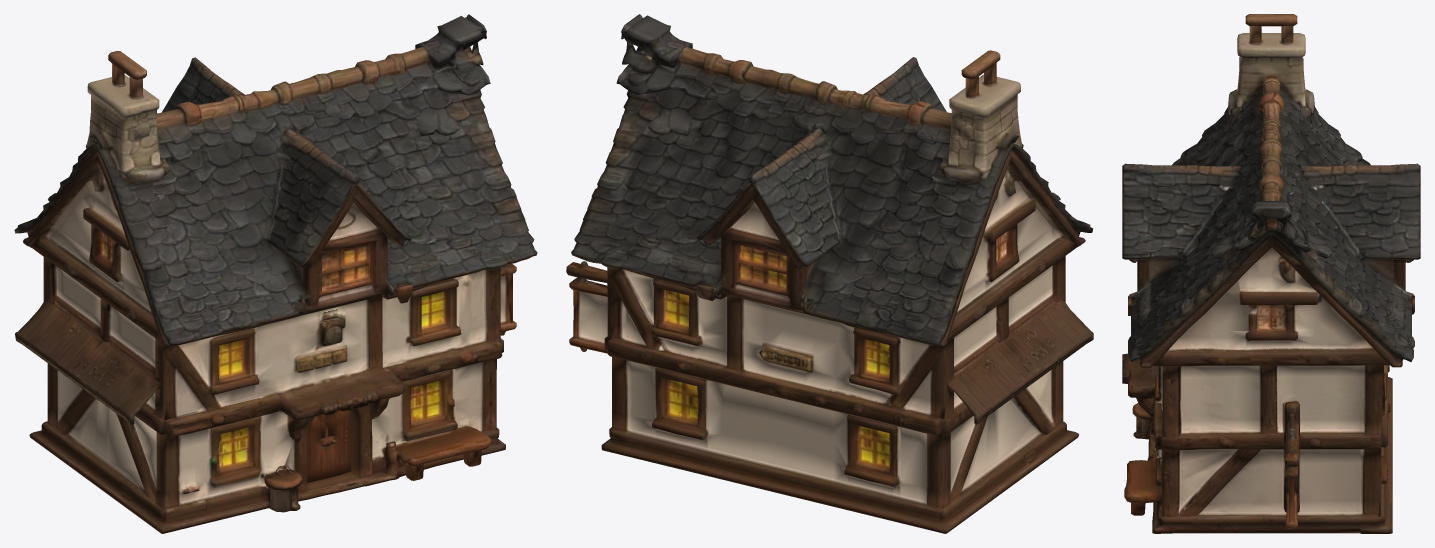
File: roadside-inn.glb
3 views of the same model, side by side, from view 1: azimuth 30°, elevation 25°; view 2: azimuth 150°, elevation 25°; view 3: azimuth 270°, elevation 25° (orthographic). The views are drawn at different scales.
Parts seen in each view (by area): view 1: tripo_node_d216c69d-8a93-424d-be57-89050853ca65; view 2: tripo_node_d216c69d-8a93-424d-be57-89050853ca65; view 3: tripo_node_d216c69d-8a93-424d-be57-89050853ca65.
Part boxes in pixels (box(x1,y1,x2,y2)): tripo_node_d216c69d-8a93-424d-be57-89050853ca65: box(14, 14, 537, 533); tripo_node_d216c69d-8a93-424d-be57-89050853ca65: box(566, 14, 1093, 533); tripo_node_d216c69d-8a93-424d-be57-89050853ca65: box(1122, 14, 1420, 533).
Bounding box in the file's own units: 0.977 × 0.8546 × 0.6099.
1 material, 1 textured.
